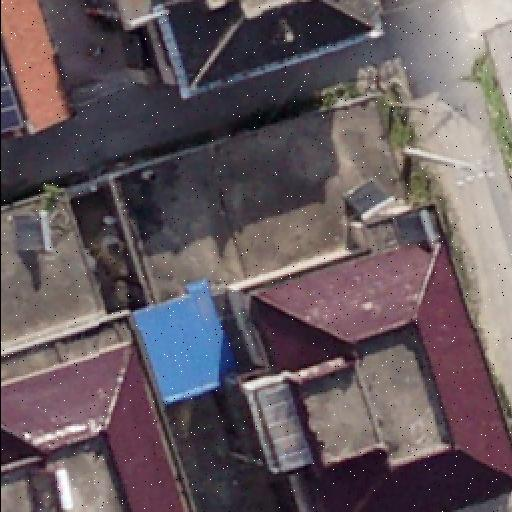solar-panel: (1, 58, 23, 130)
